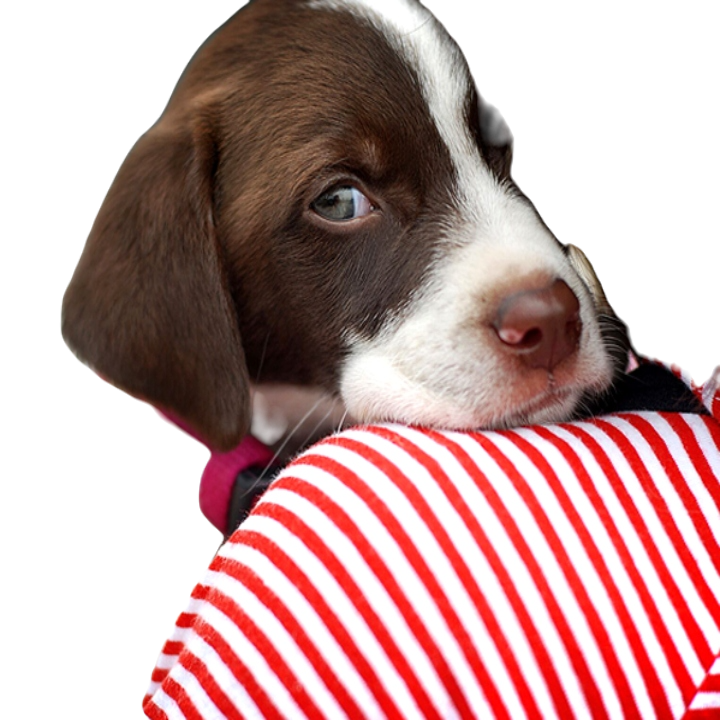Dog: (40, 0, 718, 429)
